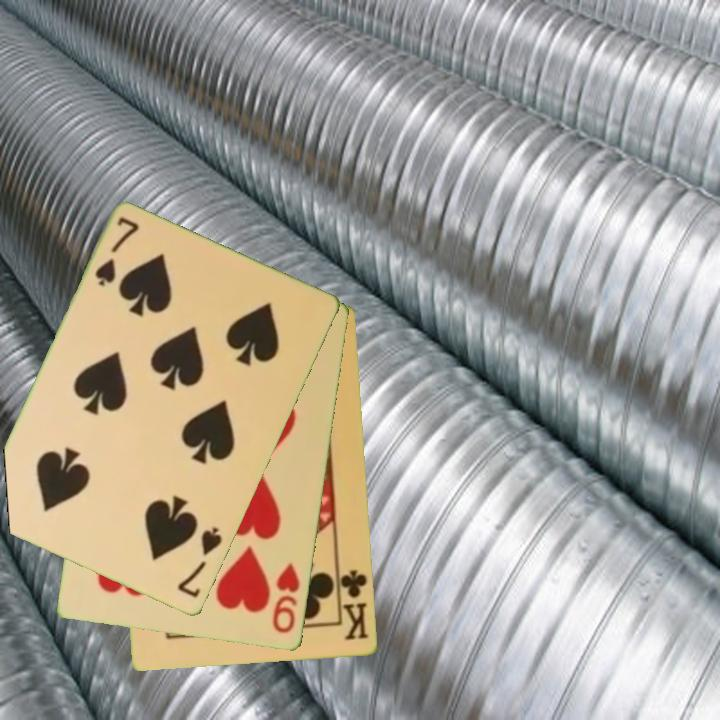7s: (91, 213, 143, 290), (174, 524, 225, 602)
9h: (269, 560, 303, 637)
Kc: (335, 564, 371, 644)
